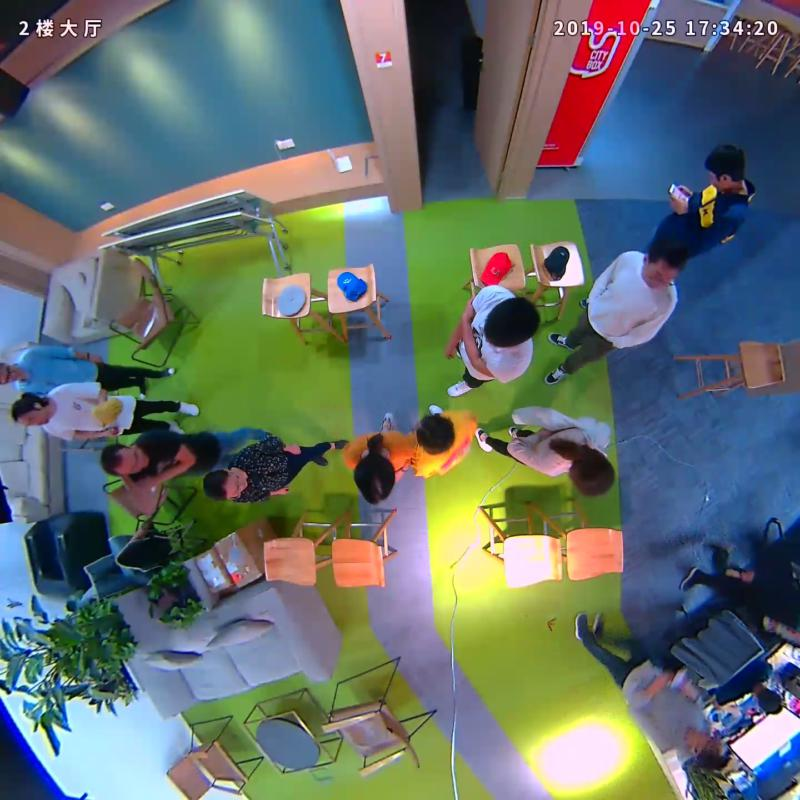head: (483, 298, 540, 348), (640, 237, 688, 290), (354, 454, 395, 505), (570, 452, 614, 495), (704, 144, 744, 190), (100, 442, 150, 476), (415, 416, 456, 455), (203, 468, 247, 500), (693, 732, 729, 769), (10, 397, 50, 426), (1, 362, 23, 386)
